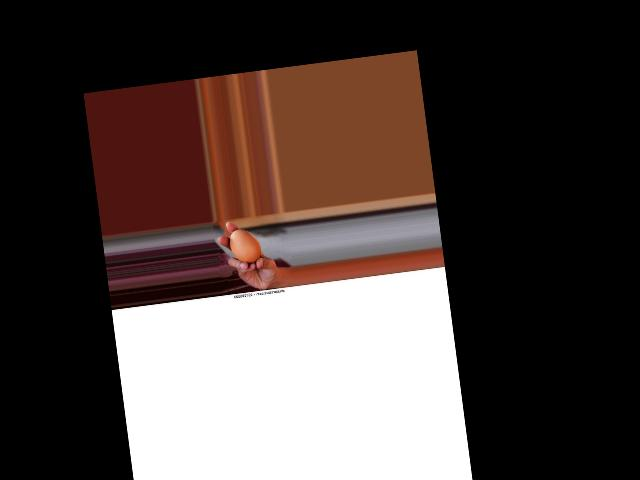egg: (227, 227, 261, 265)
